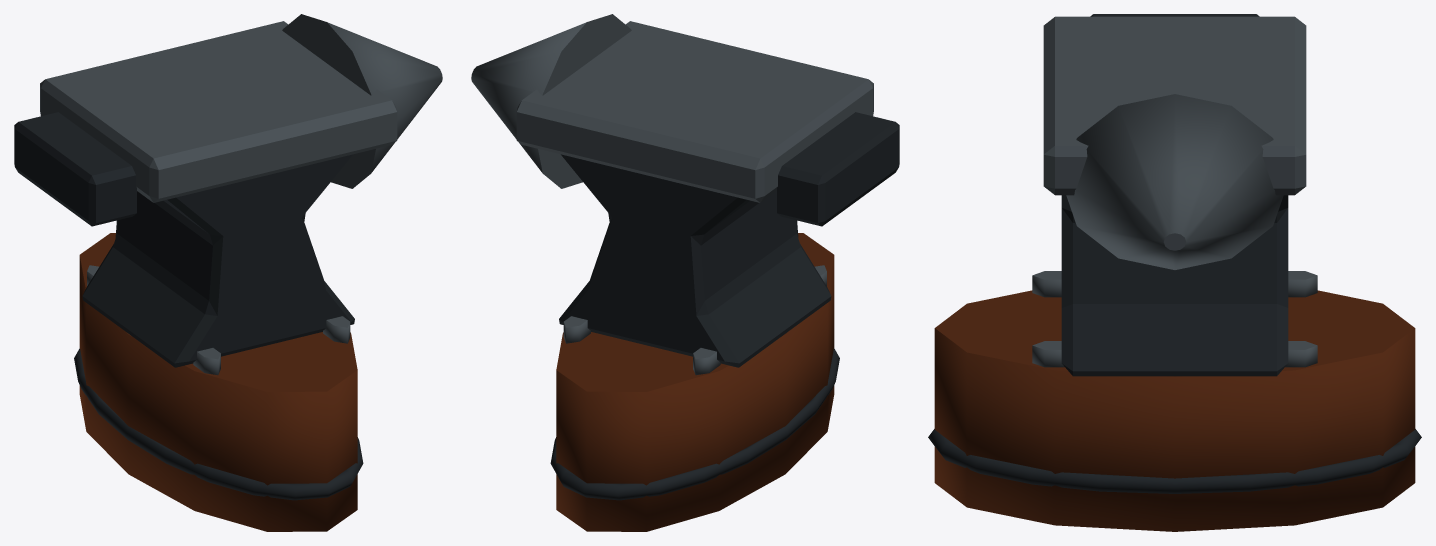
File: anvil.obj
The picture shows the model from 3 angles, left to right: view 1: azimuth 30°, elevation 25°; view 2: azimuth 150°, elevation 25°; view 3: azimuth 270°, elevation 25°; orthographic projection. The views are drawn at different scales.
Visible parts, largest first — view 1: anvil; view 2: anvil; view 3: anvil.
Boxes of the visible parts, x1,y1,x2,y2 form: anvil: (14,14,442,531); anvil: (471,14,899,531); anvil: (928,14,1421,531).
Bounding box in the file's own units: 1 × 1 × 1.
